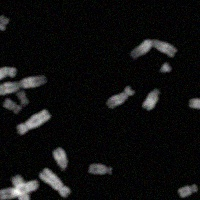chromosome: (130, 38, 177, 59), (0, 74, 46, 95), (39, 168, 72, 197), (17, 110, 50, 135), (0, 179, 39, 200), (105, 84, 134, 109), (12, 174, 30, 200), (141, 88, 160, 111), (52, 147, 67, 170), (2, 98, 21, 114), (87, 164, 112, 176), (177, 183, 197, 197), (0, 66, 16, 82), (17, 91, 31, 105), (159, 62, 173, 73), (189, 98, 200, 110), (0, 15, 8, 30)
